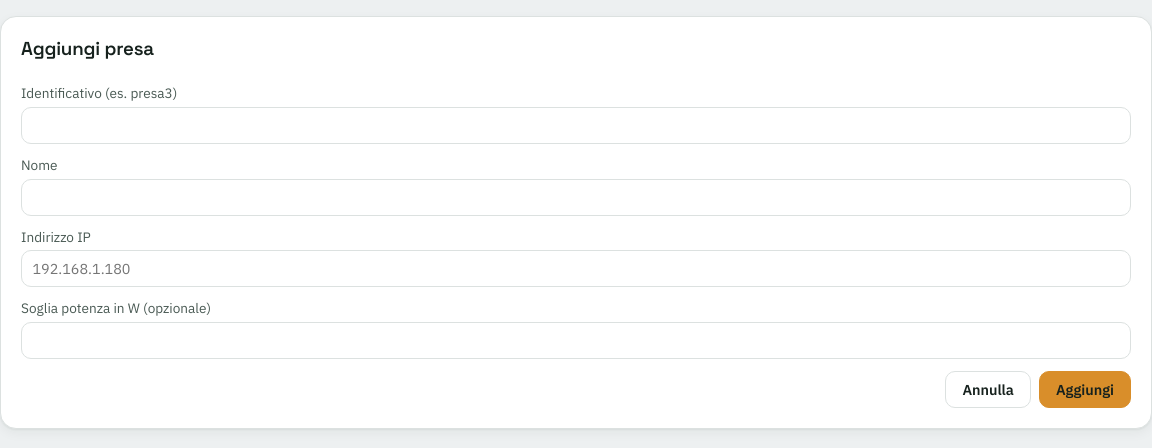
AddPresaForm › durante l'invio i bottoni sono disabilitati e il testo cambia in "Aggiunta…"
The width and height of the screenshot is (1152, 448).
Type "presa3" into the field labelled "Identificativo (es. presa3)" at (576, 125), box 21,107 -> 1131,144
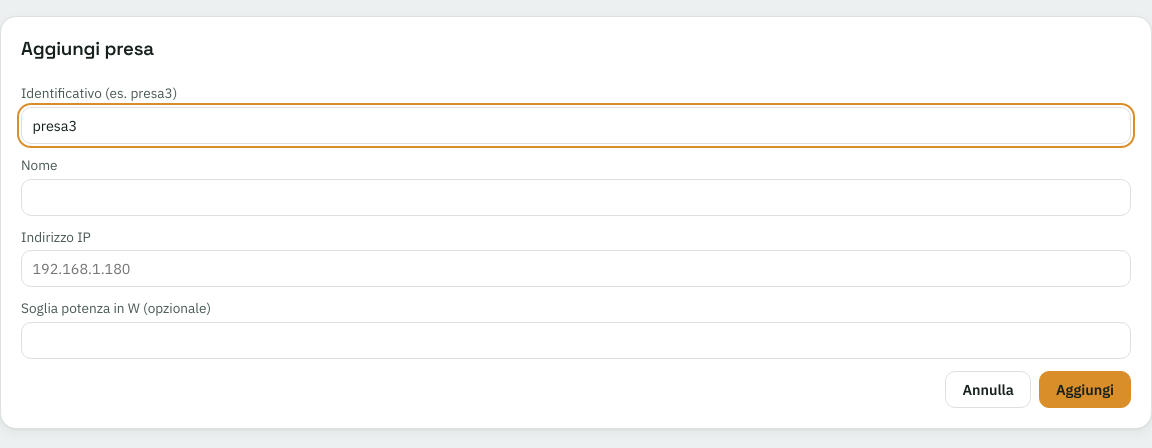
Type "Lavatrice" into the field labelled "Nome" at (576, 197), box 21,179 -> 1131,216
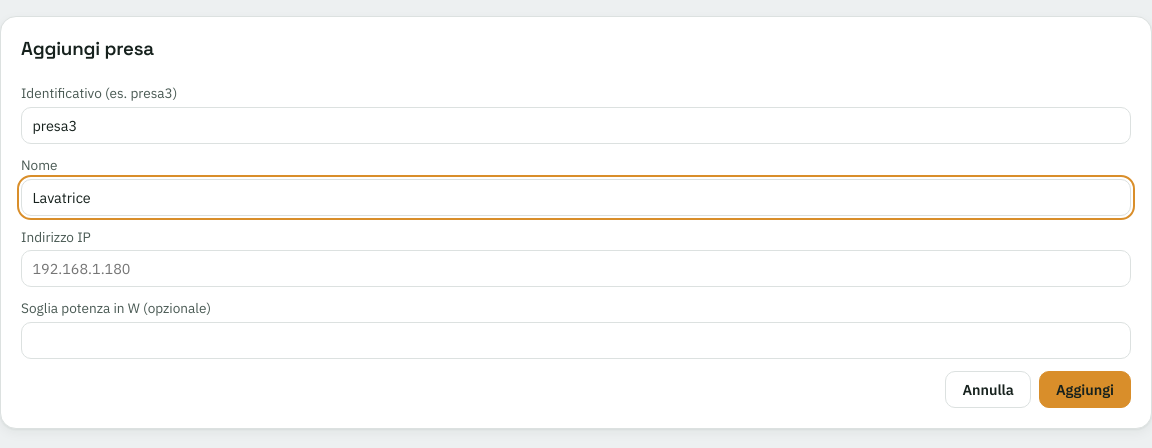
Type "192.168.1.30" into the field labelled "Indirizzo IP" at (576, 269), box 21,250 -> 1131,287
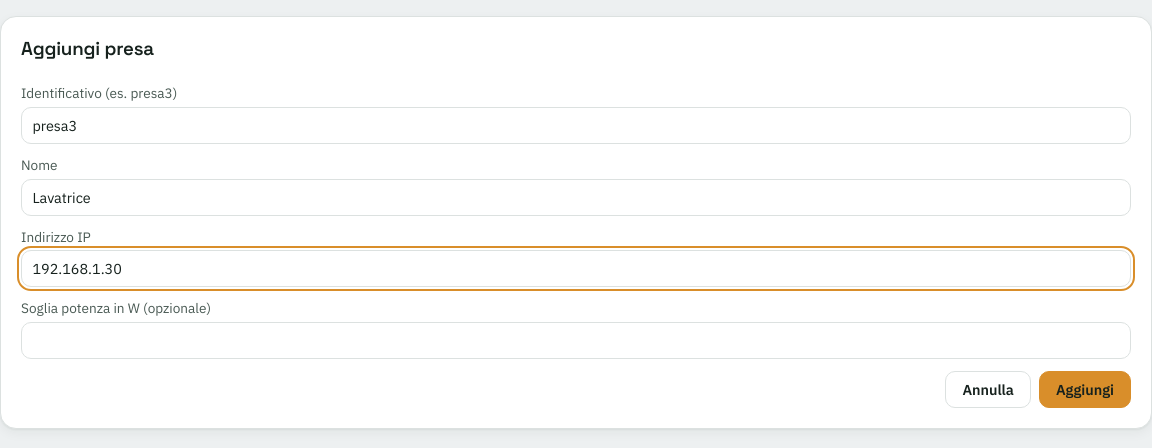
Click the button "Aggiungi" at (1085, 390), box 1039,371 -> 1131,408
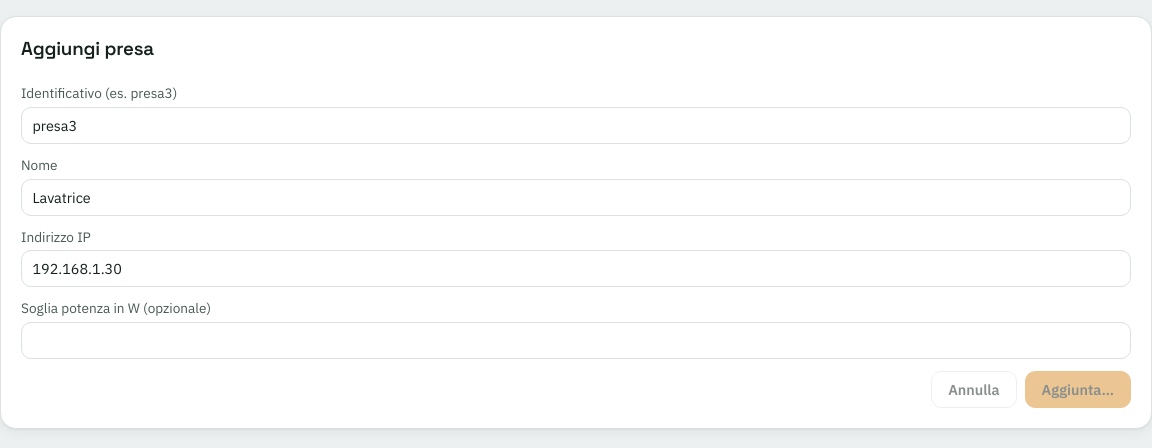
Result: the button "Aggiunta…" is disabled at 1025,371 -> 1131,408
Result: the button "Annulla" is disabled at 931,371 -> 1017,408
